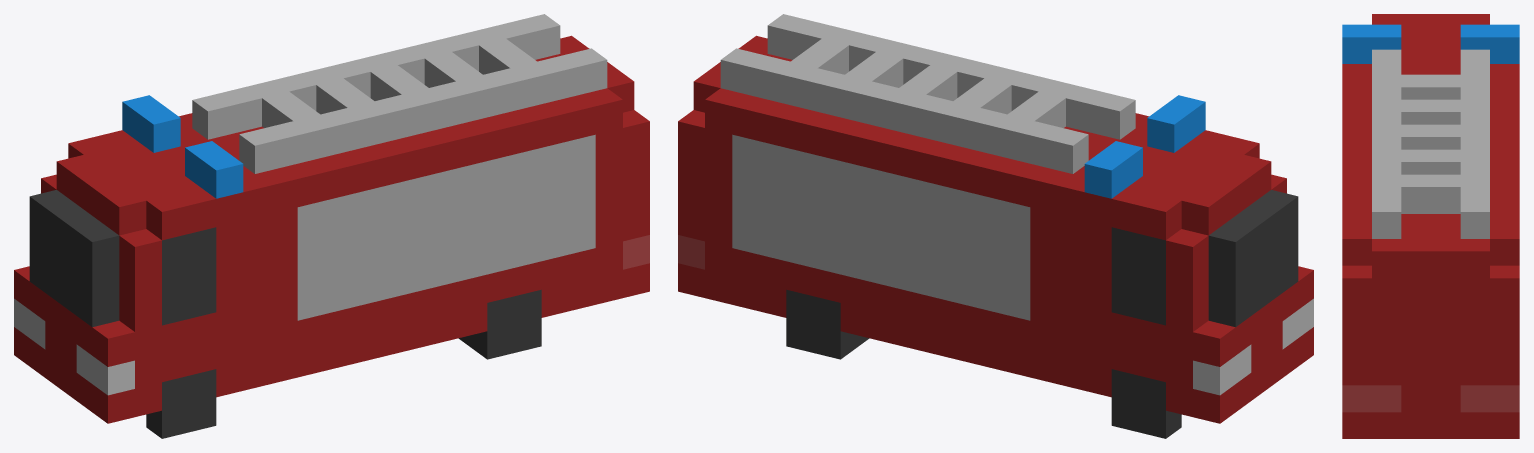
The model's file is emergency-fire-engine-1.gltf.
3 views of the same model, side by side, from view 1: azimuth 30°, elevation 25°; view 2: azimuth 150°, elevation 25°; view 3: azimuth 270°, elevation 25° (orthographic). The views are drawn at different scales.
Visible parts, largest first — view 1: model, wheels; view 2: model, wheels; view 3: model.
Boxes of the visible parts, x1,y1,x2,y2 form: model: (14,14,649,423); wheels: (146,289,541,438); model: (678,14,1313,423); wheels: (786,289,1181,438); model: (1342,14,1519,438).
Bounding box in the file's own units: 2 × 0.9 × 0.6.
2 materials, 2 textured.
